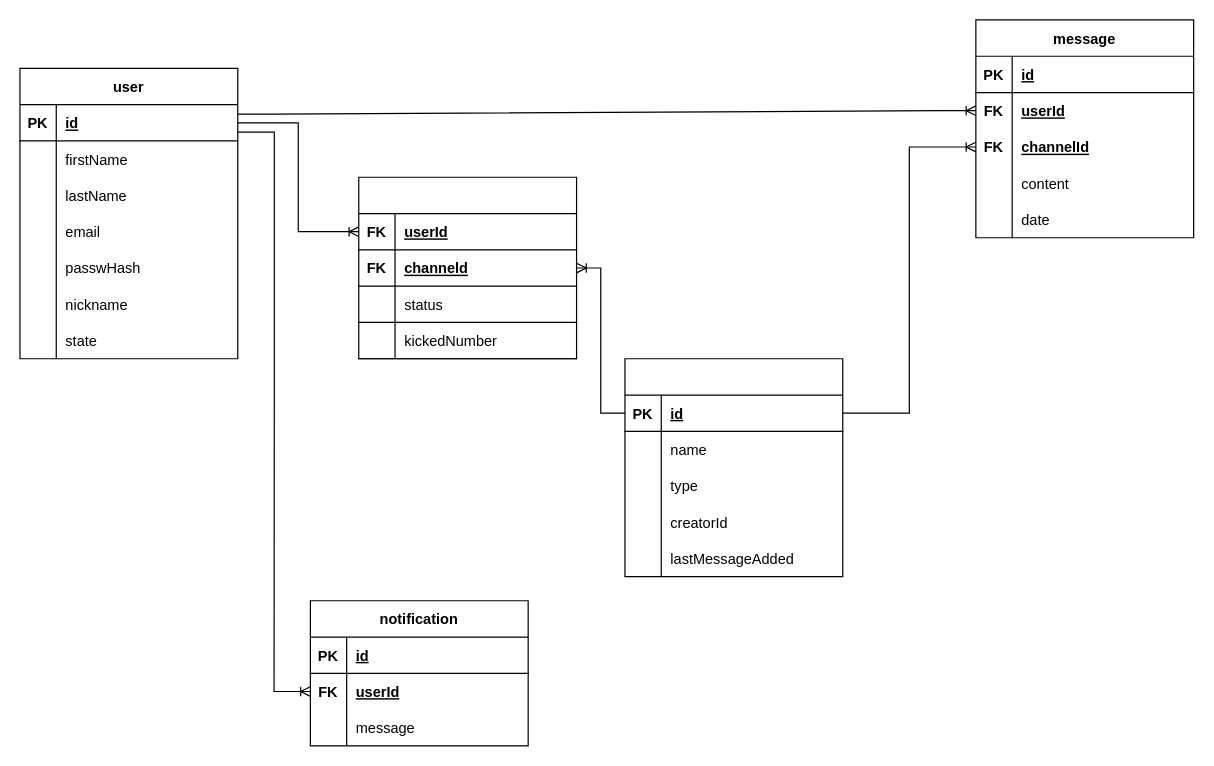
Some shapes in this 1214 by 766 pixel diagram are drawn without their labels. The shapes that lost their labels are listed below. From the top down, each one's box as (x1, y1, x2, y2) in pixels, then its label:
(358, 176, 577, 359): user_channel
(624, 358, 843, 577): channel
